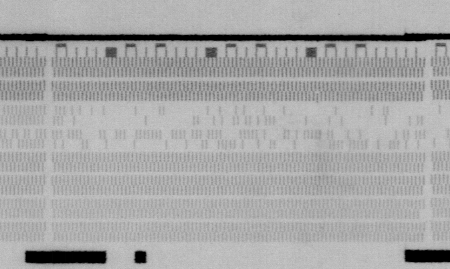Broken hole: (56, 103, 450, 154), (4, 129, 39, 140), (416, 210, 429, 220), (9, 138, 20, 149)
Oblique printing: (312, 92, 325, 104)
